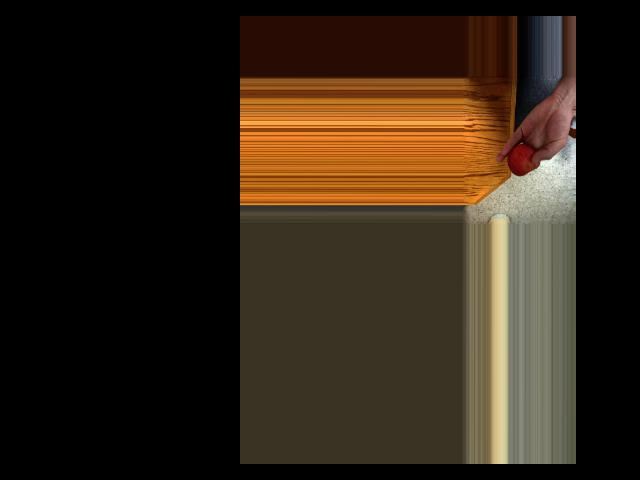apple: (507, 139, 541, 179)
